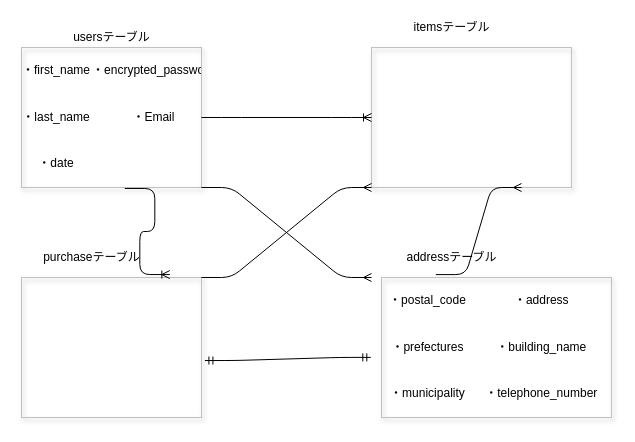
The diagram is 635 pixels wide and 442 high, and some of its shapes have lost their labels. Each missing label, with the centre of its shape:
"・Purchase＿name" goes at [112,348].
"・text ・state ・days ・image ・area ・price ・category ・delivery ・item＿name" goes at [472,118].
